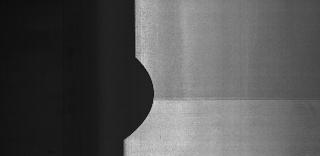welding line: (166, 97, 320, 109)
